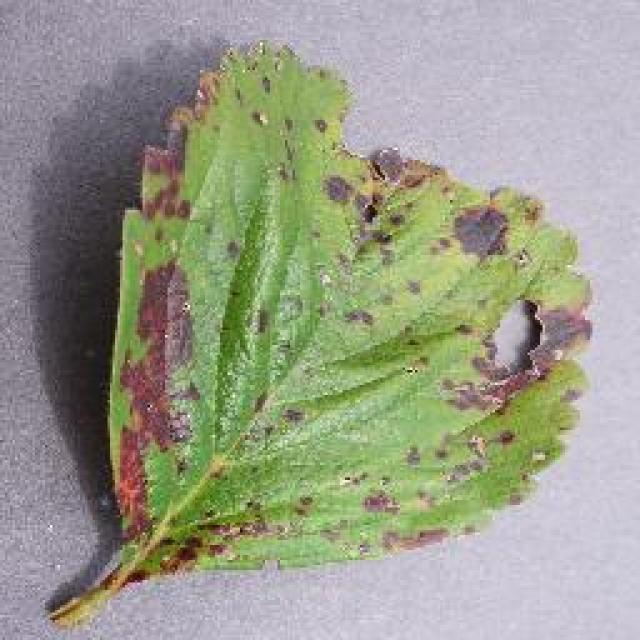Strawberry___Leaf_scorch: (35, 20, 603, 638)
